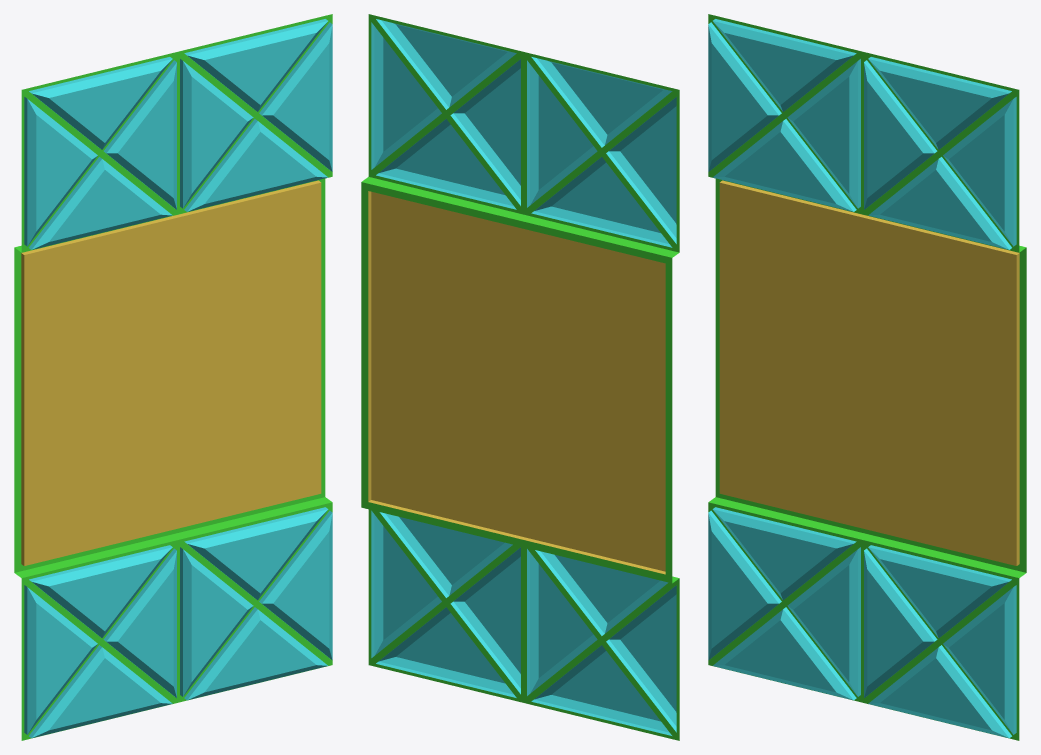
File: Wall_46_D.fbx
3 views of the same model, side by side, from view 1: azimuth 30°, elevation 25°; view 2: azimuth 150°, elevation 25°; view 3: azimuth 330°, elevation 25° (orthographic).
Visible parts, largest first — view 1: Wall_46_D; view 2: Wall_46_D; view 3: Wall_46_D.
Part boxes in pixels (<box>): Wall_46_D: <box>14,14,332,740</box>; Wall_46_D: <box>361,14,679,740</box>; Wall_46_D: <box>708,14,1026,740</box>.
Size of the model in its own units: 229 by 457 by 16.33.
